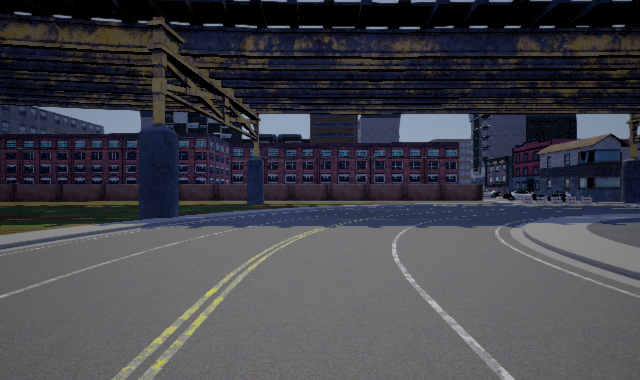vehicle: (503, 189, 547, 203)
